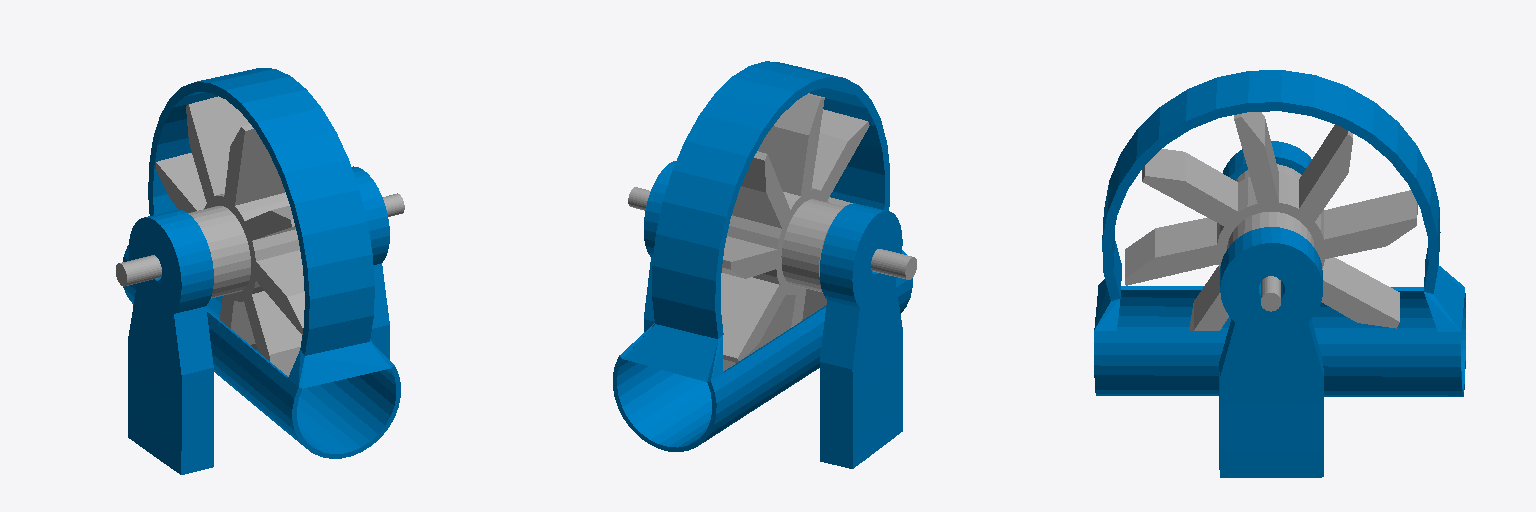
File: WaterWheel.obj
3 renders of one model, left to right at view 1: azimuth 30°, elevation 25°; view 2: azimuth 150°, elevation 25°; view 3: azimuth 270°, elevation 25°, orthographic.
Visible parts, largest first — view 1: Circle.001, Circle, Circle.002, Circle.003; view 2: Circle.001, Circle, Circle.002, Circle.003; view 3: Circle.001, Circle, Circle.003, Circle.002.
Part boxes in pixels (left/top/right/bottom): Circle.001: left=123, top=68, right=400, bottom=458; Circle: left=116, top=96, right=404, bottom=376; Circle.002: left=128, top=209, right=213, bottom=474; Circle.003: left=352, top=166, right=389, bottom=359; Circle.001: left=613, top=61, right=912, bottom=451; Circle: left=628, top=93, right=916, bottom=370; Circle.002: left=820, top=203, right=902, bottom=468; Circle.003: left=644, top=161, right=675, bottom=331; Circle.001: left=1094, top=70, right=1465, bottom=396; Circle: left=1125, top=112, right=1417, bottom=330; Circle.003: left=1219, top=227, right=1323, bottom=477; Circle.002: left=1223, top=141, right=1311, bottom=180.
Bounding box in the file's own units: 7.25 × 8.55 × 8.39.